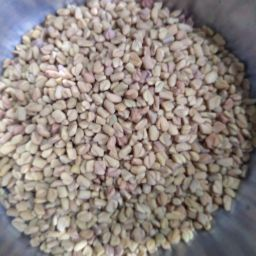Fenugeek (seeds): (95, 1, 255, 254), (47, 7, 184, 256), (8, 45, 216, 176), (2, 35, 98, 256)
